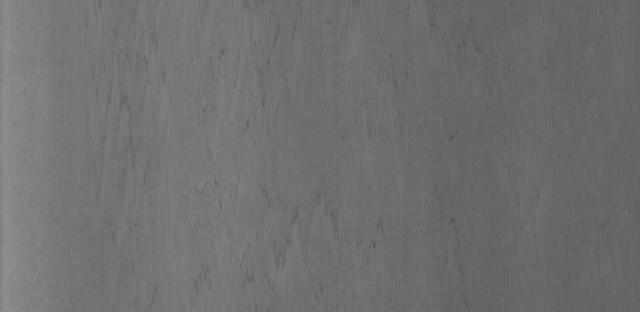silk_spot: (130, 12, 384, 307)
